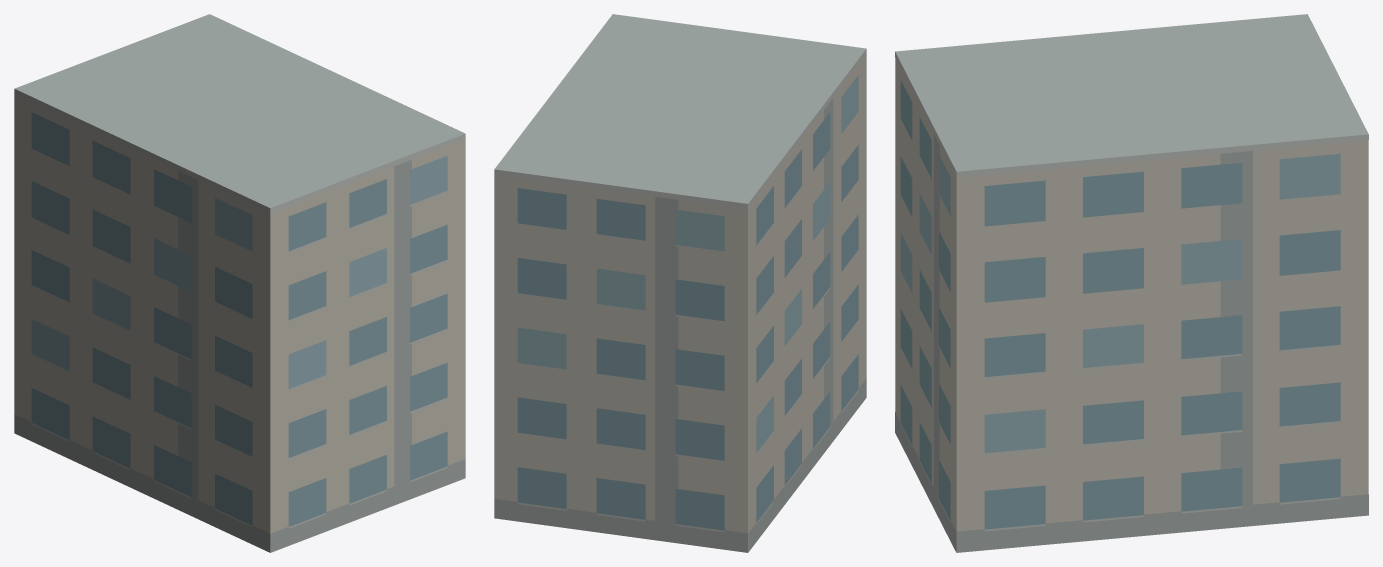
File: residential-0dcf37ee-078f-4192-9290-0af7b86eae82.glb
3 views of the same model, side by side, from view 1: azimuth 30°, elevation 25°; view 2: azimuth 150°, elevation 25°; view 3: azimuth 270°, elevation 25° (orthographic). The views are drawn at different scales.
Parts seen in each view (by area): view 1: residential-0dcf37ee-078f-4192-9290-0af7b86eae82.tmp; view 2: residential-0dcf37ee-078f-4192-9290-0af7b86eae82.tmp; view 3: residential-0dcf37ee-078f-4192-9290-0af7b86eae82.tmp.
Part boxes in pixels (x1,y1,x2,y2): residential-0dcf37ee-078f-4192-9290-0af7b86eae82.tmp: (14,14,465,552); residential-0dcf37ee-078f-4192-9290-0af7b86eae82.tmp: (494,14,866,552); residential-0dcf37ee-078f-4192-9290-0af7b86eae82.tmp: (895,14,1368,552).
Size of the model in its own units: 13.55 by 15.25 by 17.19.
